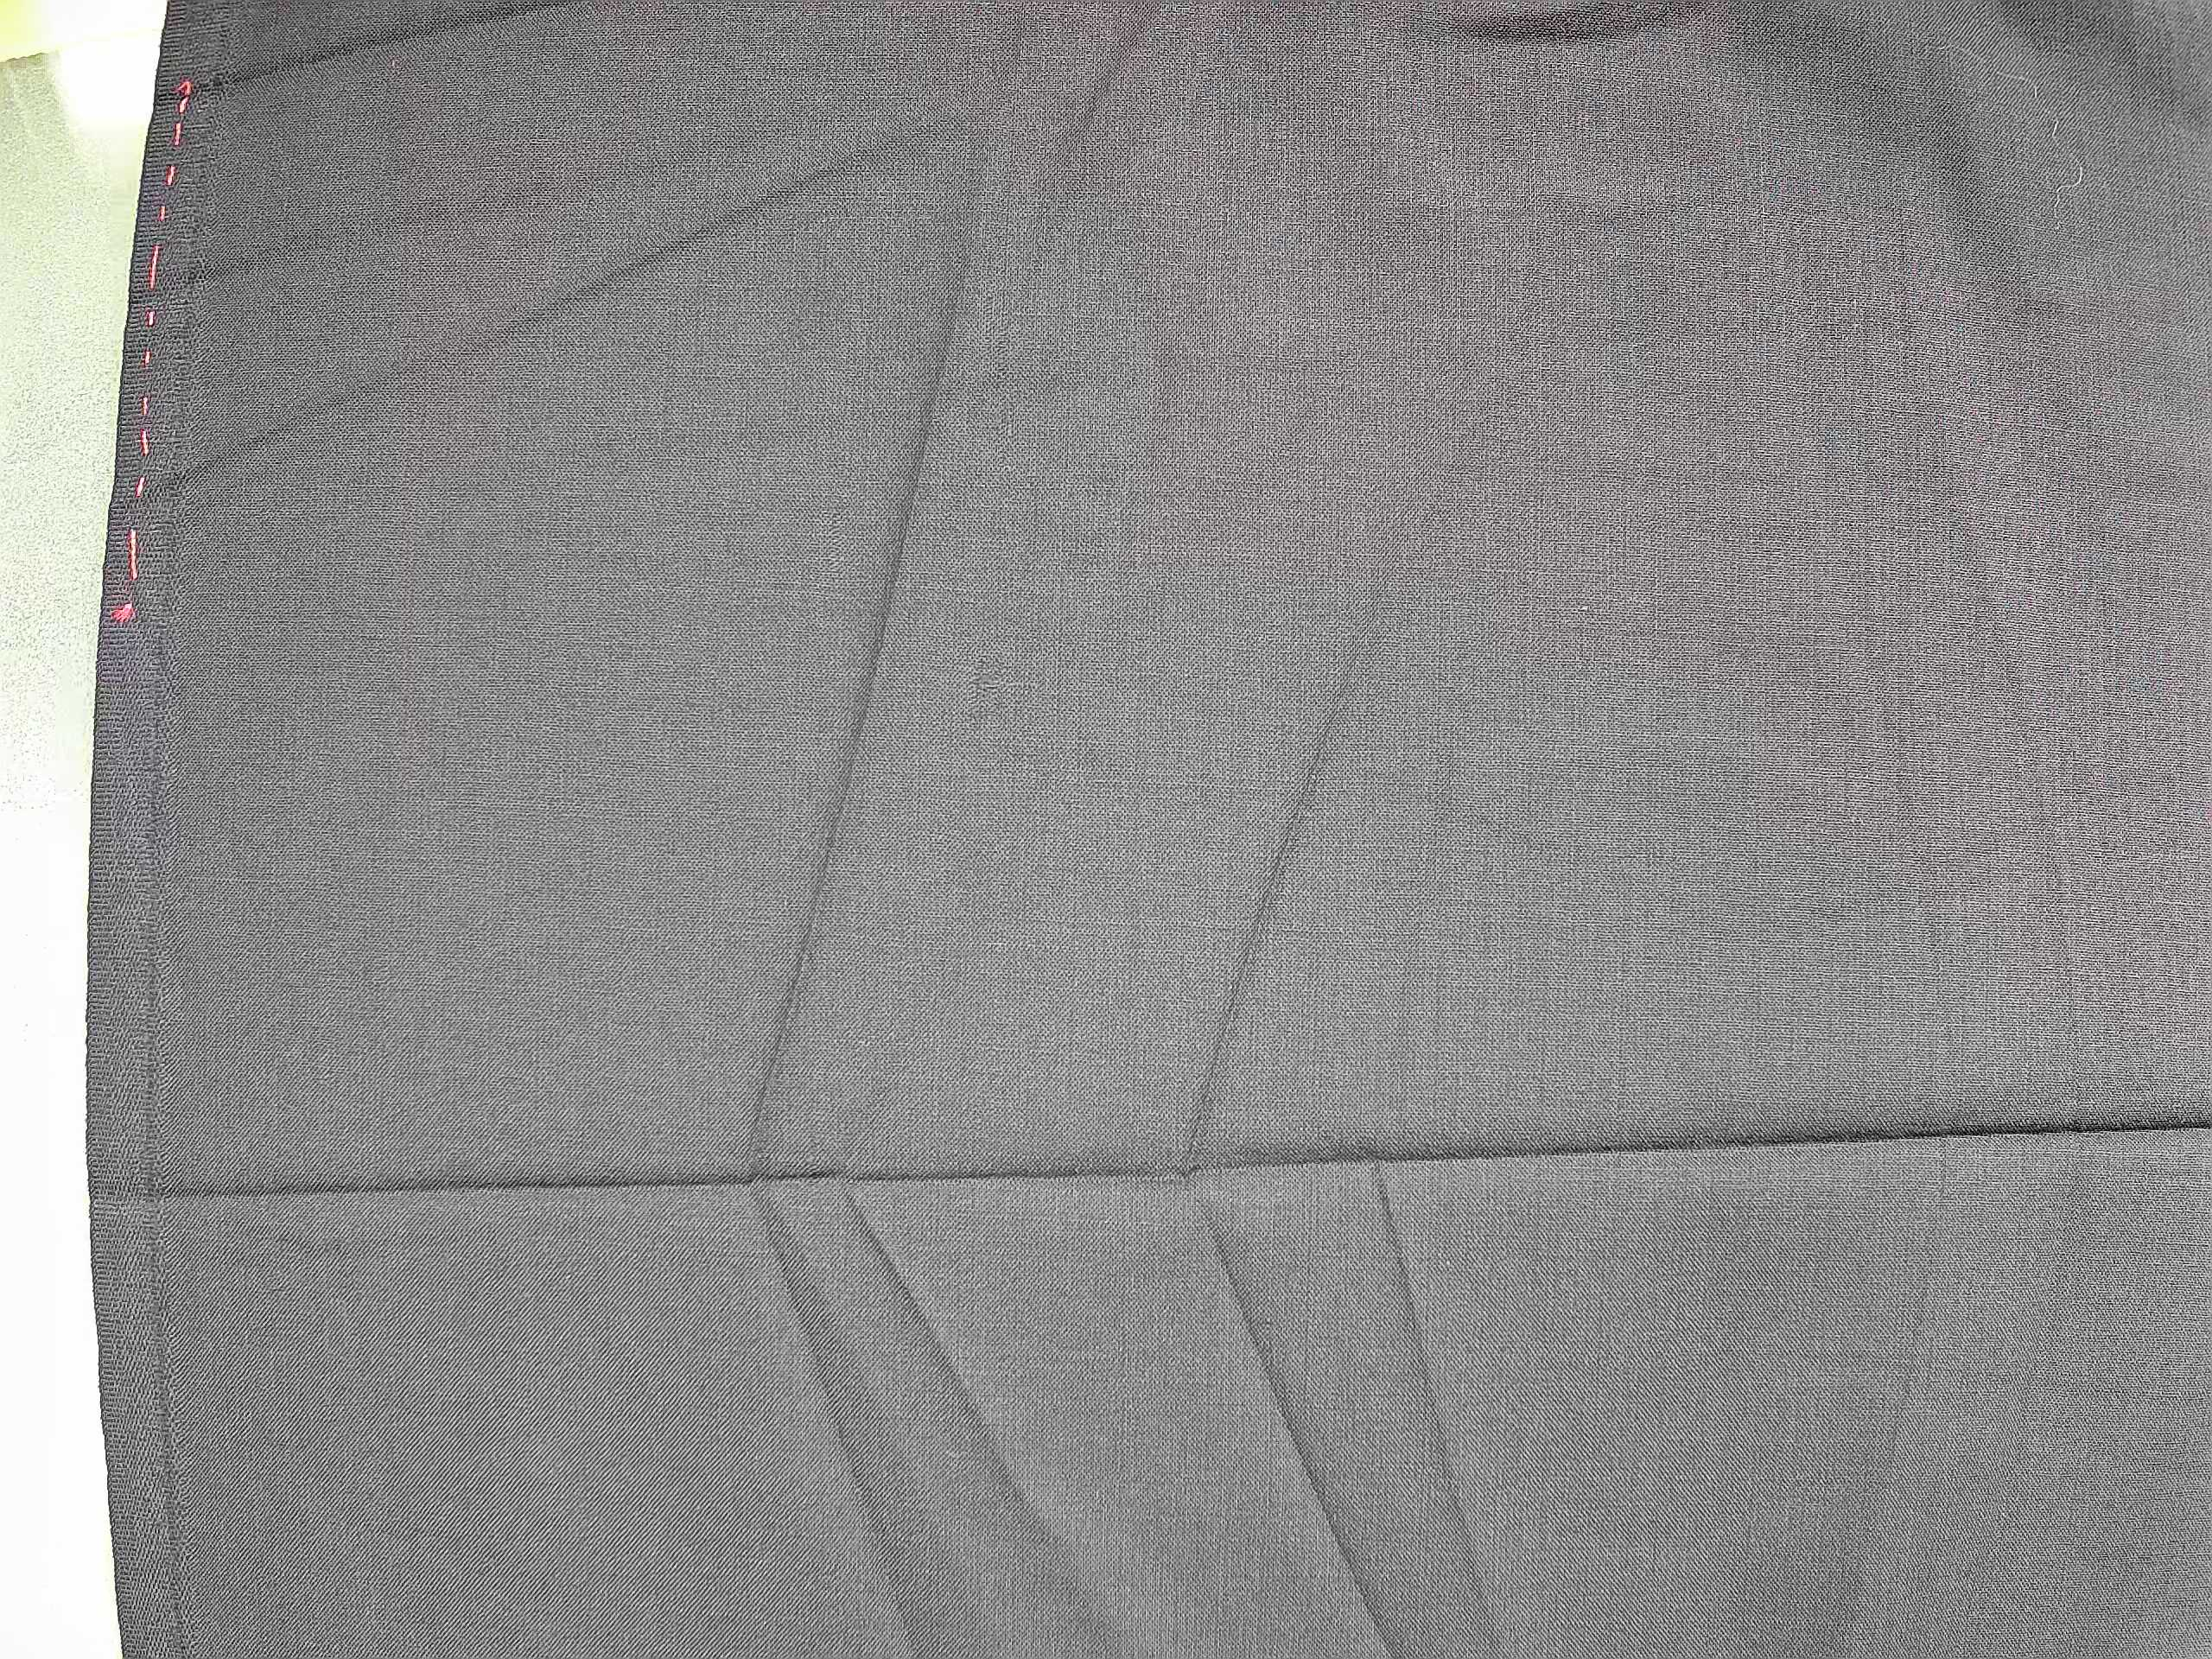hanging-warp: (981, 293, 1028, 477), (961, 631, 1015, 746)
